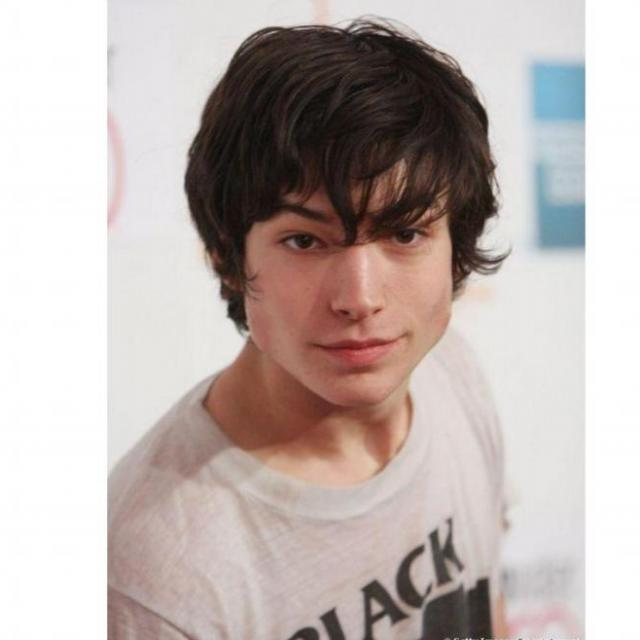live: (203, 148, 498, 421)
